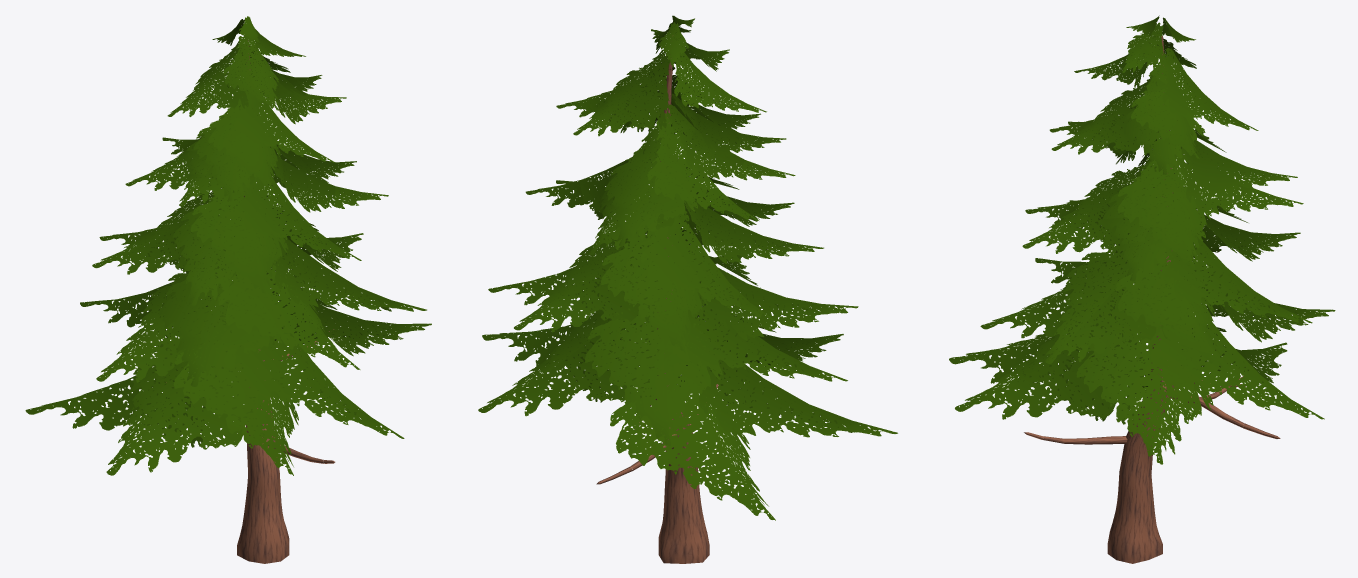
The model's file is Pine_2.gltf.
3 renders of one model, left to right at view 1: azimuth 30°, elevation 25°; view 2: azimuth 150°, elevation 25°; view 3: azimuth 270°, elevation 25°, orthographic. The views are drawn at different scales.
Parts seen in each view (by area): view 1: Pine_2; view 2: Pine_2; view 3: Pine_2.
Boxes of the visible parts, x1,y1,x2,y2 form: Pine_2: (25, 16, 431, 563); Pine_2: (478, 15, 897, 563); Pine_2: (949, 15, 1335, 563).
Bounding box in the file's own units: 5.73 × 7.63 × 5.22.
Materials: 2 (2 with a texture image).
